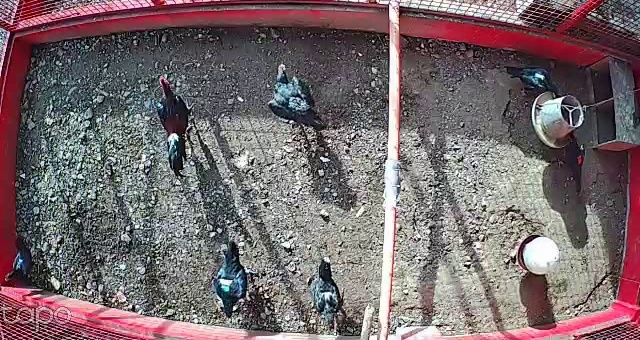Chicken: (259, 57, 329, 138), (301, 250, 351, 340), (214, 235, 262, 322), (504, 60, 557, 101), (556, 131, 588, 194)
Rooster: (151, 72, 199, 179)
Saddle_Color_Red: (577, 156, 582, 164)
Saddle_Color_White: (538, 73, 544, 80)
Saddle_Color_YellowGreen: (218, 278, 238, 293)
